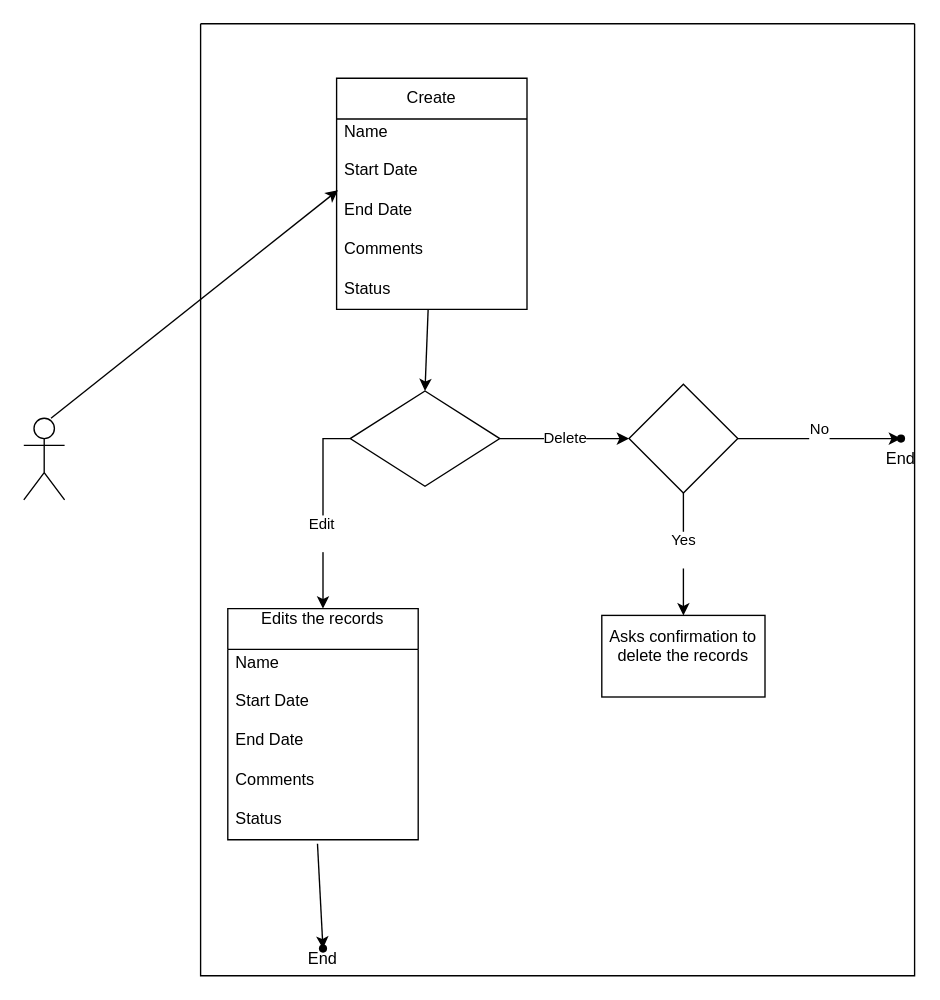
The diagram is 940 pixels wide and 1000 high, and some of its shapes have lost their labels. Here are the shapes that lost their labels. From the top down, the centre of each, then its label:
the point at 43,458: User
the point at 424,438: Edit or Delete
the point at 683,438: Yes/No
